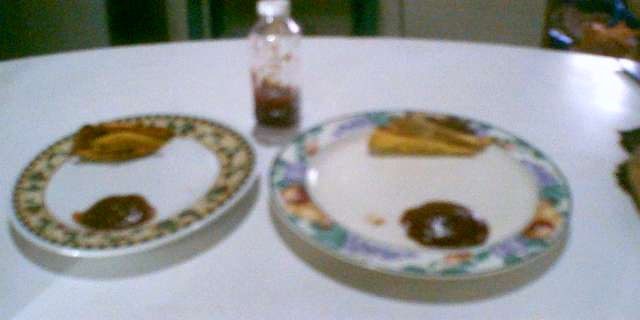ketchup_bottle: (246, 1, 304, 134)
ketchup_portion: (397, 191, 493, 251), (70, 190, 157, 231)
potatoe_fries: (366, 111, 483, 164), (69, 120, 177, 162)
